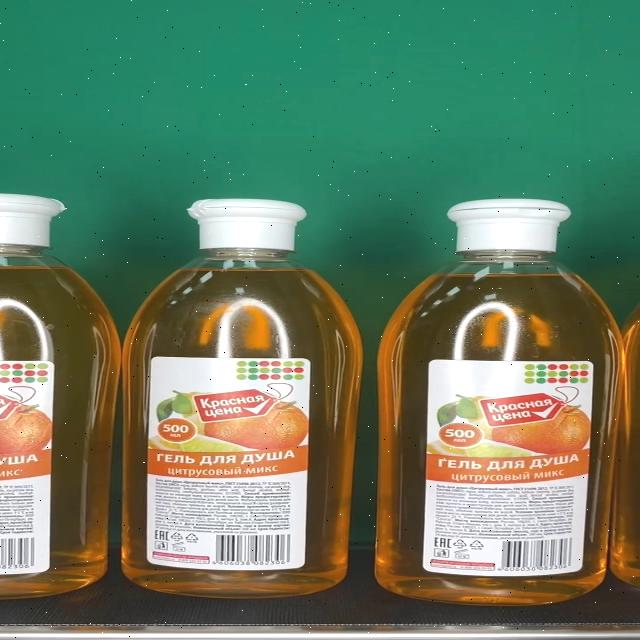Bottle: (378, 200, 623, 604), (120, 199, 363, 597)
Cap: (447, 200, 572, 253), (187, 199, 307, 250)
